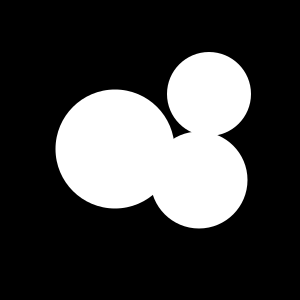rectangle: (56, 90, 174, 208), (150, 132, 248, 228), (167, 52, 251, 136)
